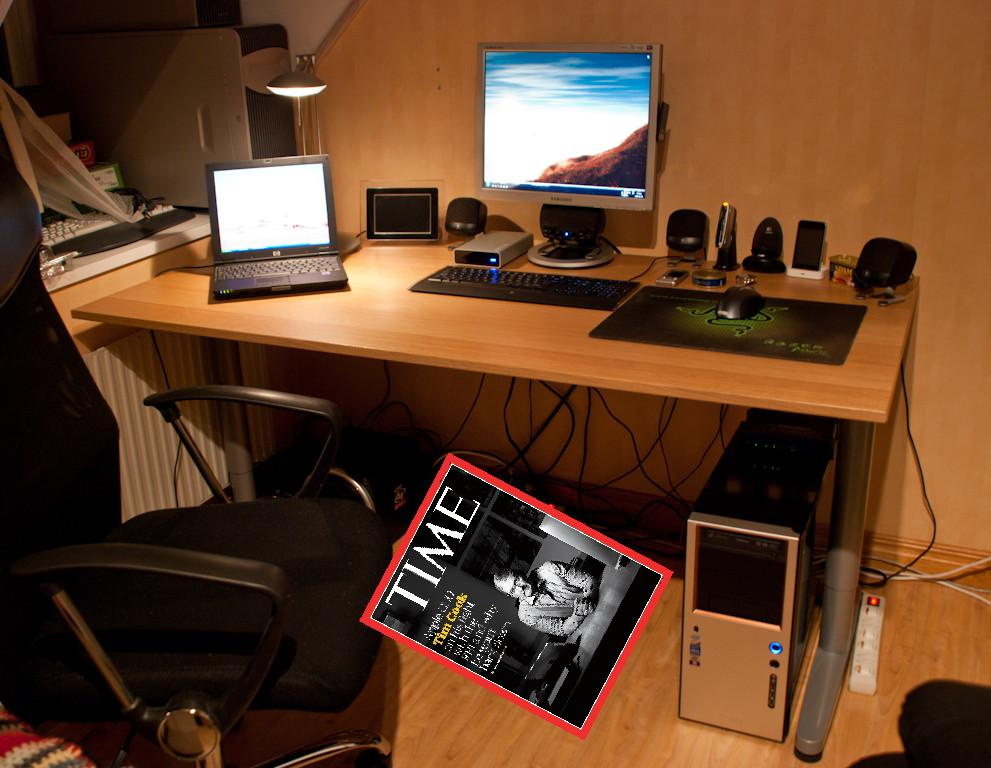times: (358, 447, 677, 745)
